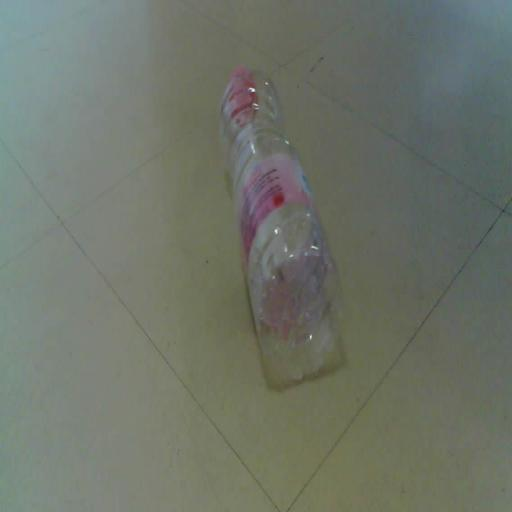bottle: (202, 30, 380, 372)
